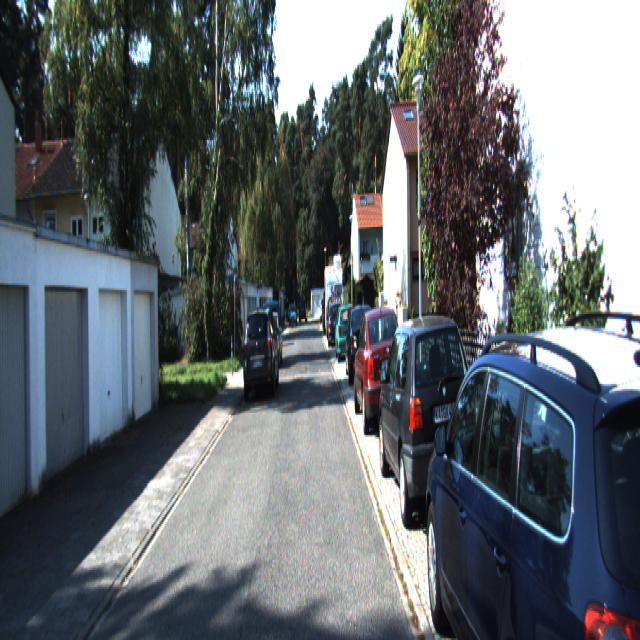Car: (419, 314, 639, 638), (378, 311, 481, 542), (353, 305, 408, 441), (242, 304, 278, 398), (346, 306, 378, 390), (323, 264, 342, 338), (335, 306, 357, 366), (327, 303, 344, 347)
